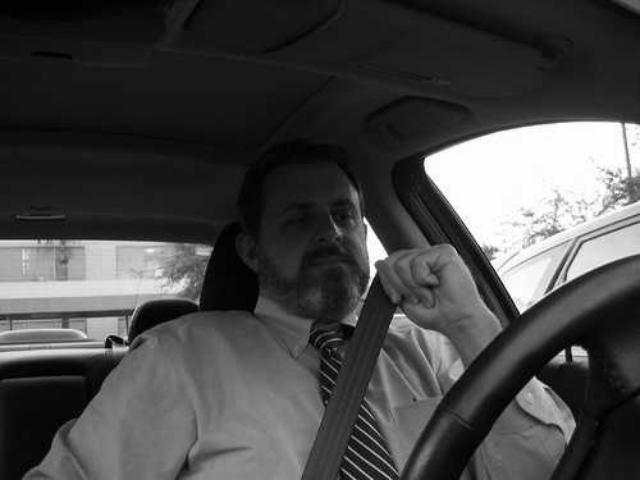Seatbelt: (298, 268, 400, 480)
